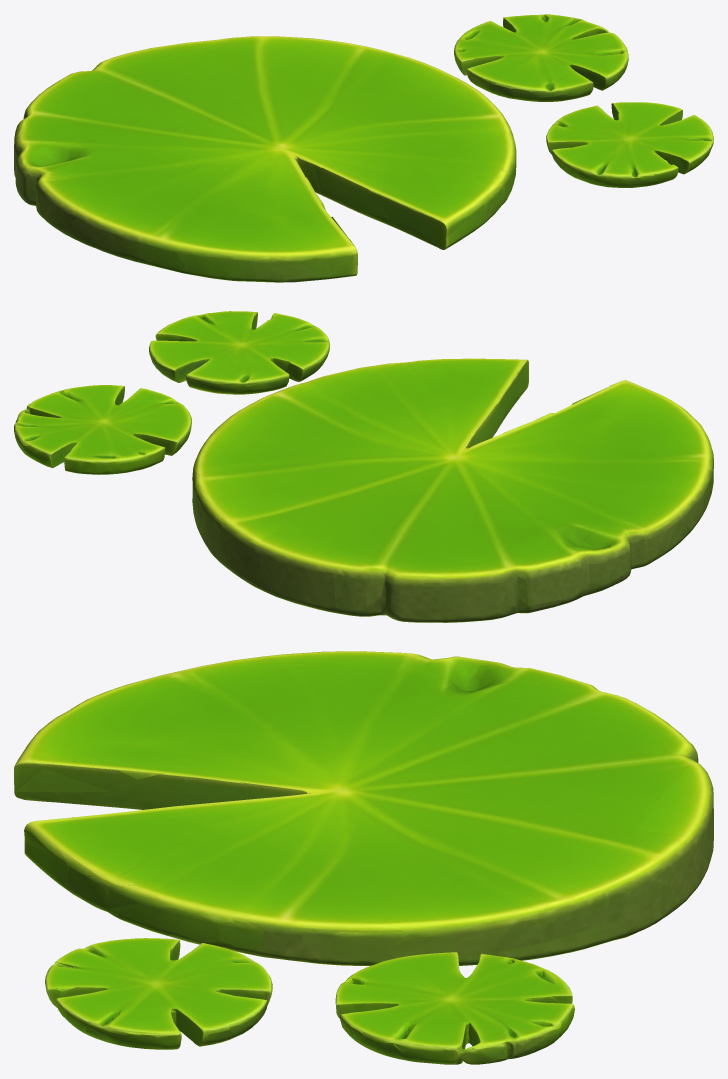
The model's file is lily_pad.glb.
The picture shows the model from 3 angles, top to bottom: view 1: azimuth 30°, elevation 25°; view 2: azimuth 150°, elevation 25°; view 3: azimuth 270°, elevation 25°; orthographic projection. The views are drawn at different scales.
Bounding box in the file's own units: 1.9 × 0.155 × 1.44.
Materials: 1 (1 with a texture image).
